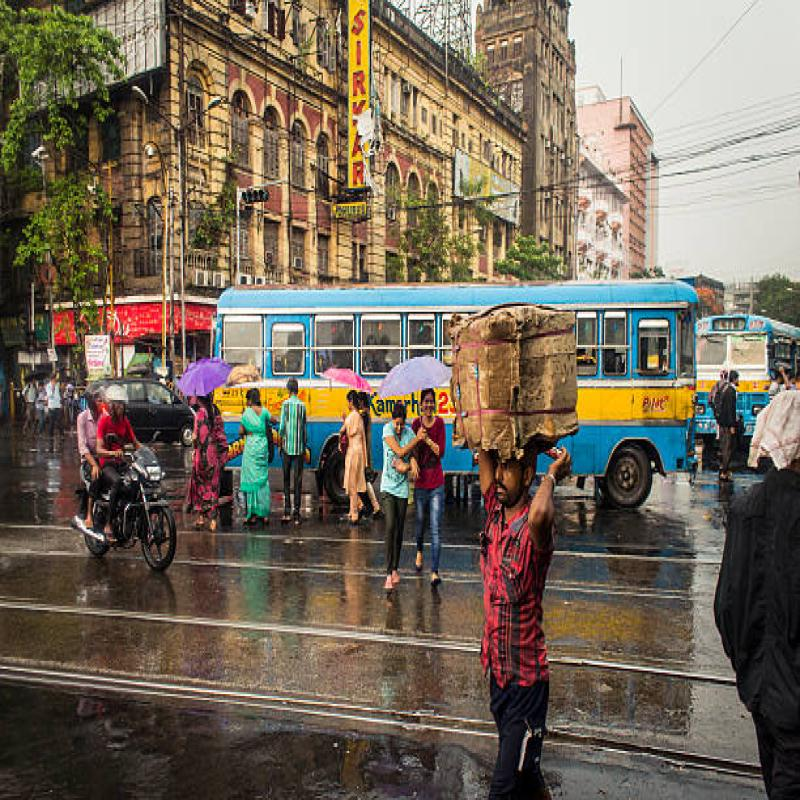bike: (70, 452, 194, 570)
bus: (213, 251, 696, 520), (697, 291, 800, 469)
